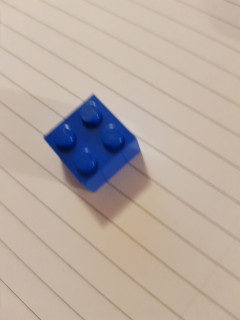2x2 blue: (40, 90, 145, 196)
